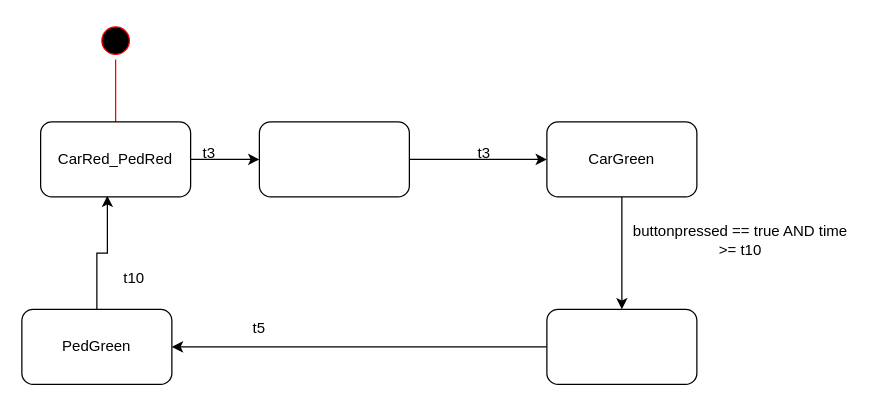
Image size: 881x406. Some labels were removed from this diagram. The shapes that lost their labels are listed below. From the top down, each one's centre as x and y in pixels, then its label:
At [333,159]: "CarRed_Yellow".
At [621,346]: "CarYellow".
